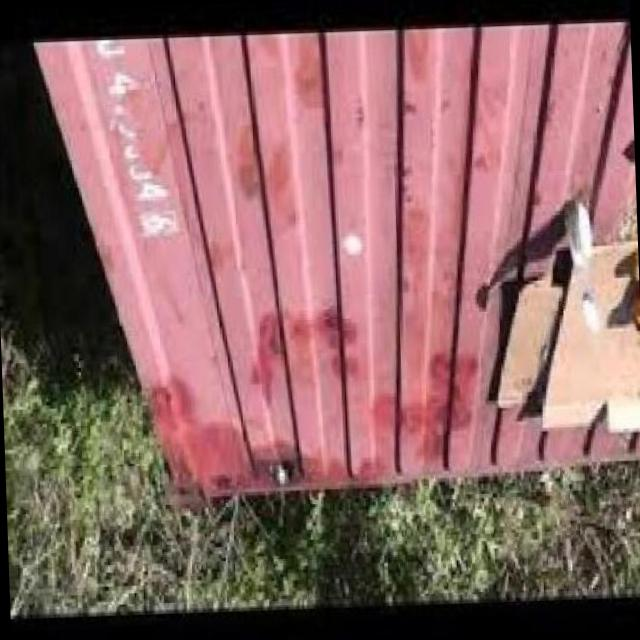Hole: (272, 456, 304, 486)
